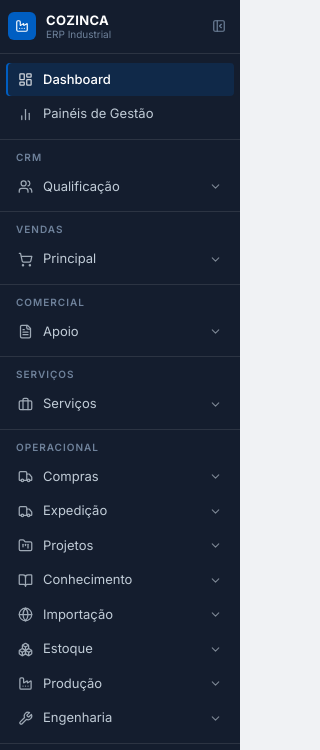
Scenario: Sidebar Component › expande grupo Principal (vendas) ao clicar
Click the button "Principal" at [120, 259], box [6, 242, 234, 276]
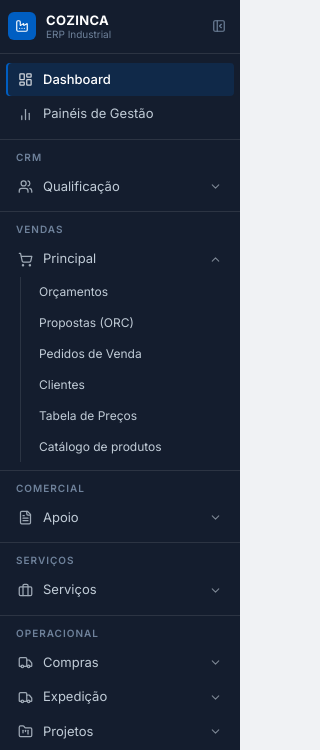
Expected: the text "Pedidos de Venda" is shown, [39, 345, 142, 363]
